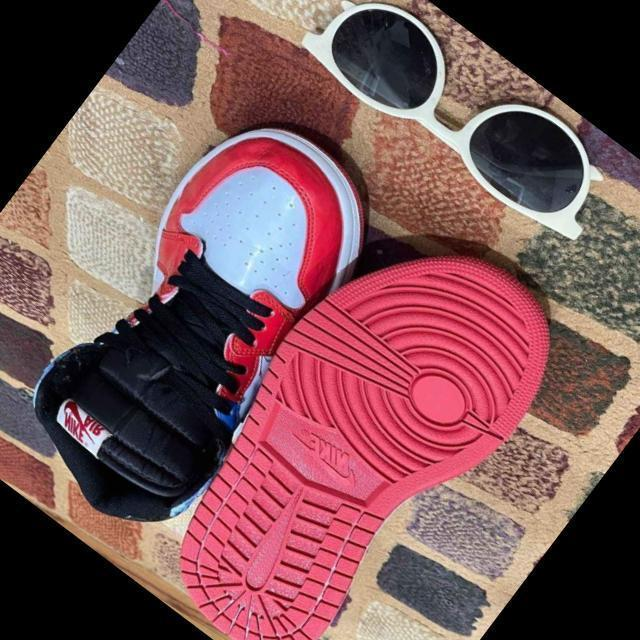nike fake jordan 1: (0, 95, 411, 555)
